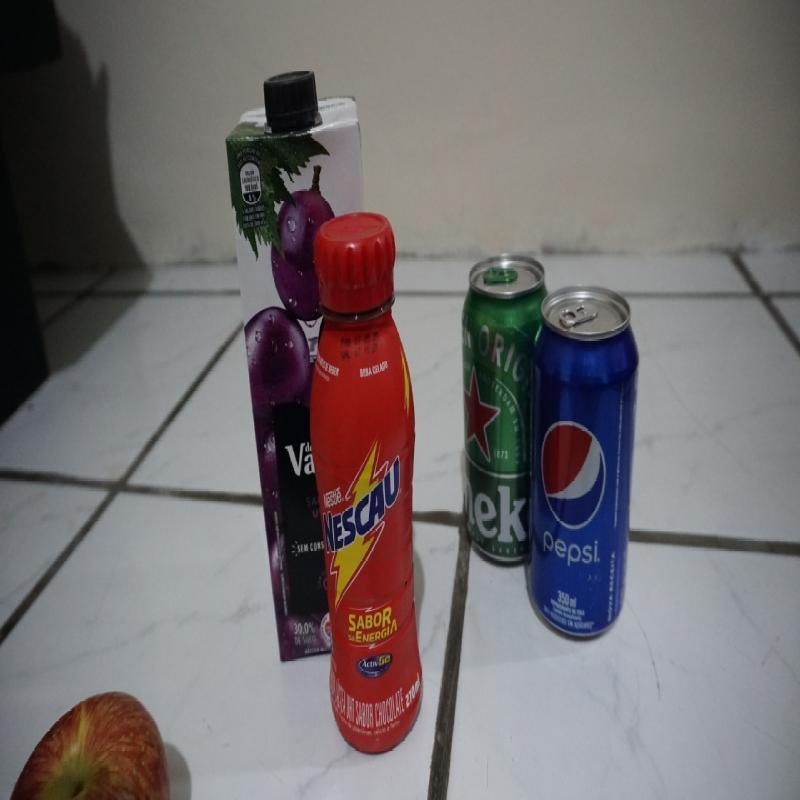Apple: (7, 689, 166, 800)
Beer can: (457, 246, 534, 565)
Chocolate Milk: (313, 212, 428, 756)
Soda can: (537, 282, 643, 638)
